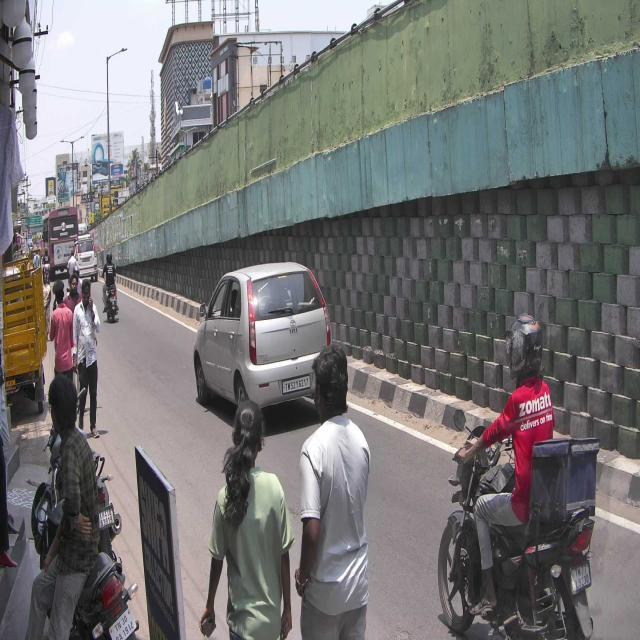single_rider: (436, 309, 600, 640)
